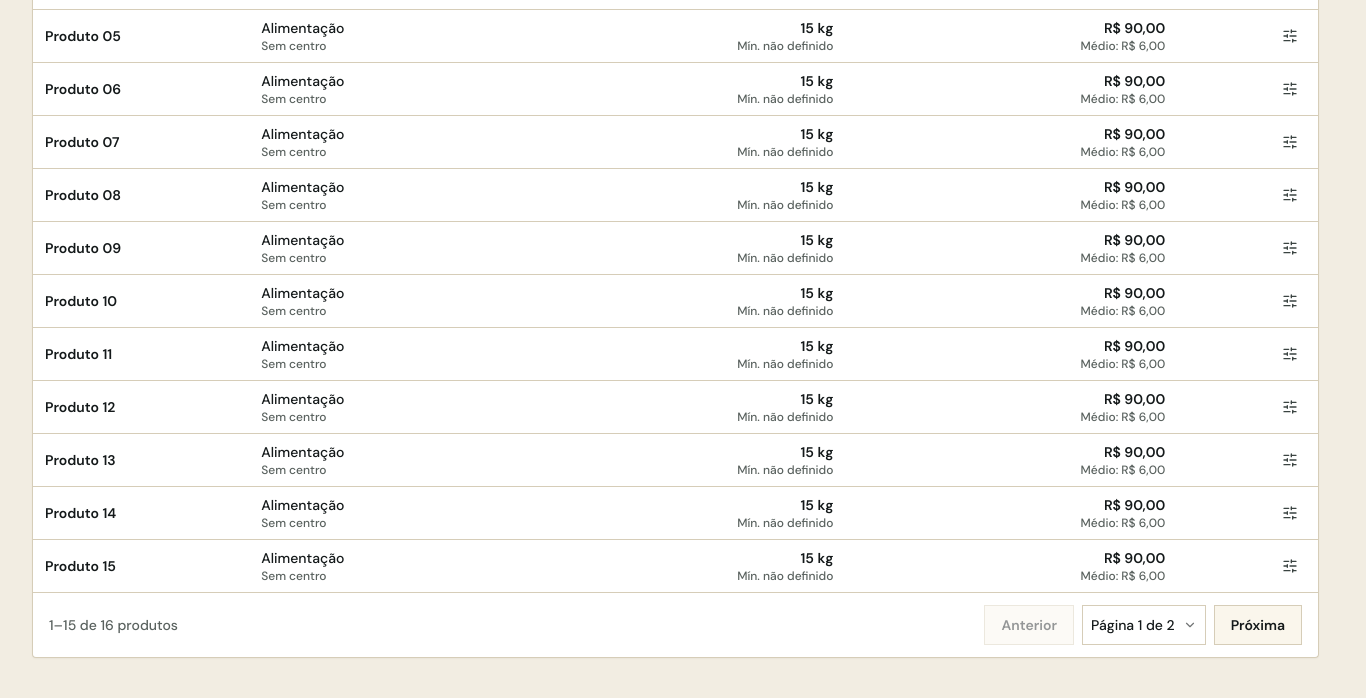
Test: EstoqueContent — saldos e custo médio › saldos são paginados de 15 em 15
(page scrolled)
Expected: the link "Produto 15" is shown, [45, 557, 116, 575]
Expected: the text "Produto 16" is not shown
Click the button "Próxima" at (1258, 625), box [1214, 605, 1302, 645]
(page scrolled)
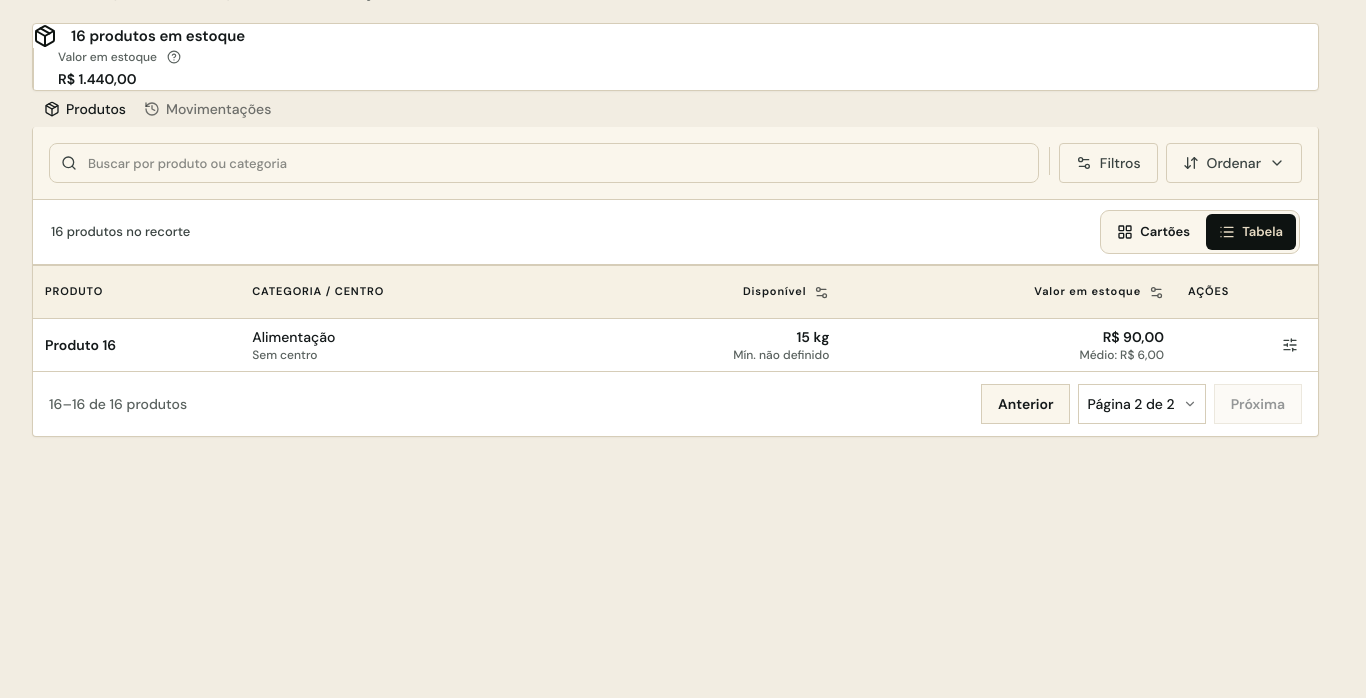
Now the link "Produto 16" is shown, box [45, 336, 116, 354]
